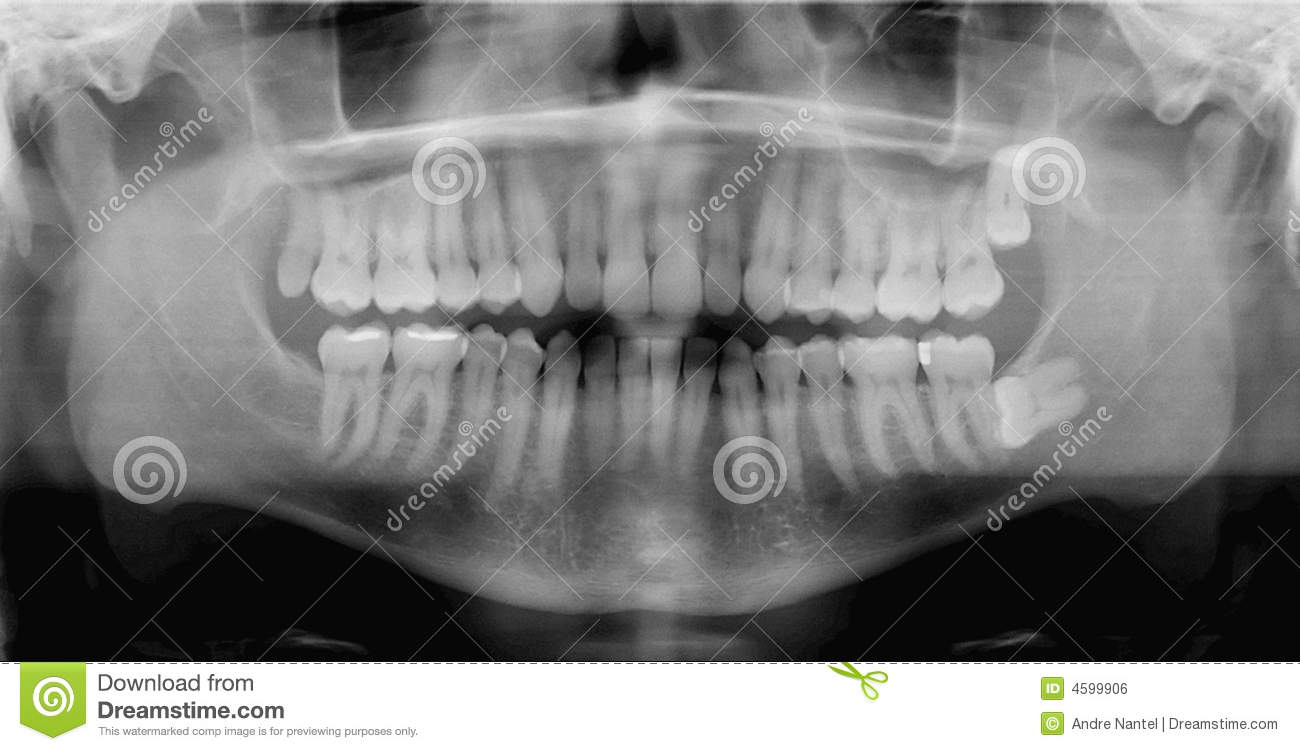canine: (518, 145, 568, 318), (742, 158, 793, 326), (542, 325, 589, 492), (719, 326, 764, 477)
incisor: (649, 171, 706, 325), (601, 165, 651, 321), (564, 163, 601, 320), (705, 170, 743, 320), (585, 329, 620, 479), (650, 331, 685, 475), (685, 332, 720, 474), (620, 332, 647, 479)
molar: (831, 324, 942, 485), (379, 313, 474, 473), (921, 307, 1006, 466), (317, 306, 399, 469), (874, 148, 948, 327), (368, 165, 441, 322), (933, 180, 1005, 333), (310, 176, 385, 322), (986, 358, 1098, 448), (275, 178, 336, 308), (983, 139, 1044, 268)
premolar: (780, 143, 840, 334), (745, 323, 809, 501), (497, 318, 555, 499), (424, 163, 490, 317), (798, 330, 861, 483), (472, 145, 528, 316), (826, 153, 877, 324), (461, 318, 515, 458)
